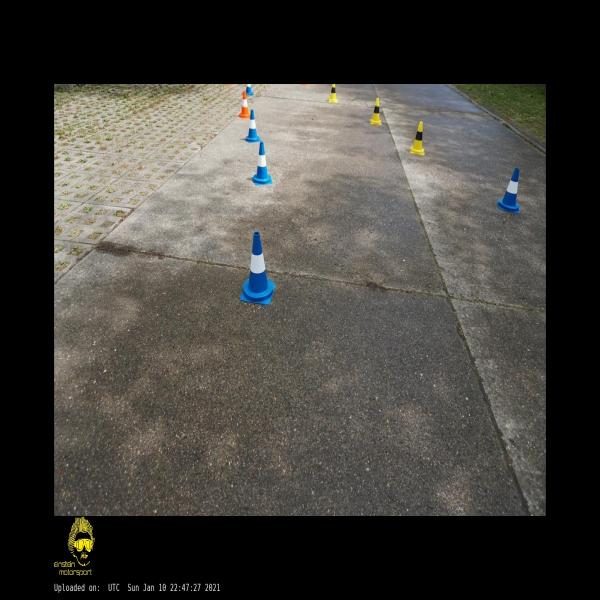blue_cone: (240, 232, 275, 304), (497, 168, 520, 214), (252, 141, 273, 185), (245, 109, 261, 143), (246, 84, 254, 95)
orange_cone: (239, 91, 250, 118)
yellow_cone: (410, 121, 424, 155), (370, 97, 382, 125), (328, 84, 338, 102)
